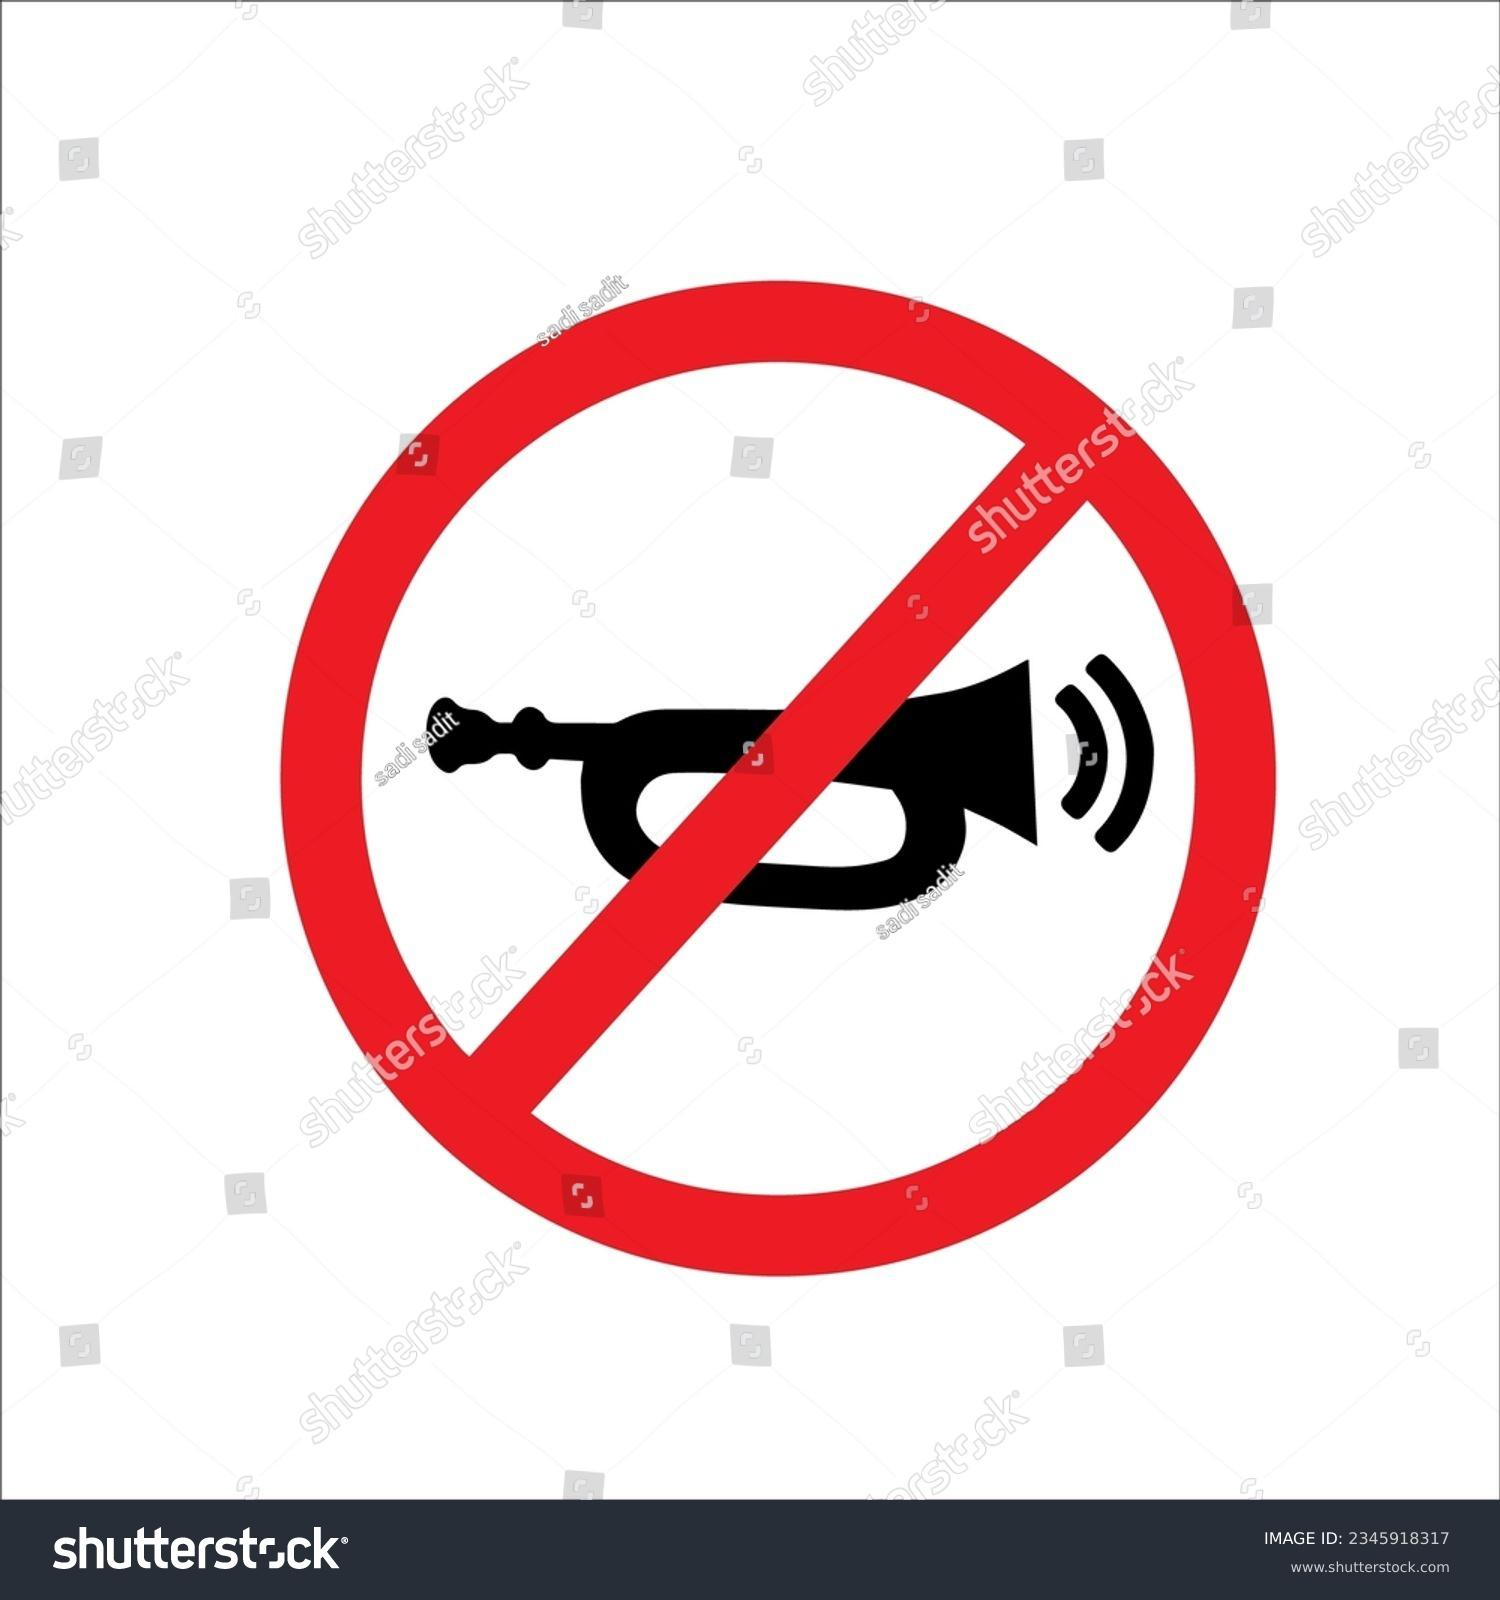Horn Prohibited: (210, 178, 1365, 1305)
